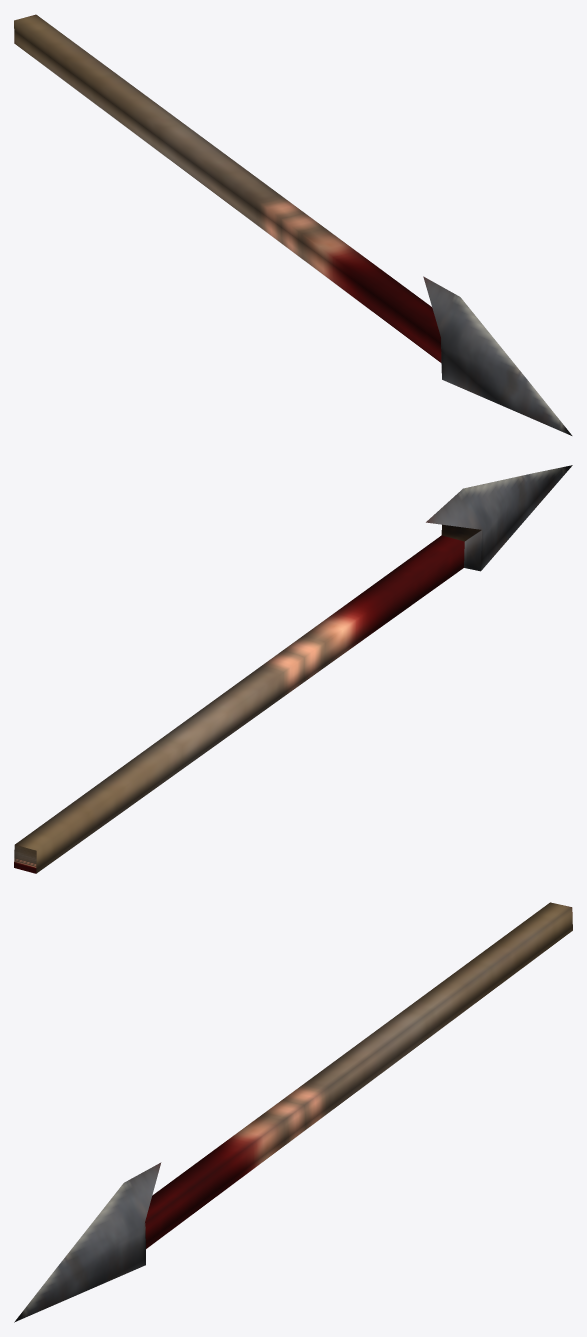
The model's file is spear.gltf.
3 views of the same model, one above another, from view 1: azimuth 30°, elevation 25°; view 2: azimuth 150°, elevation 25°; view 3: azimuth 330°, elevation 25° (orthographic).
Parts seen in each view (by area): view 1: Box03; view 2: Box03; view 3: Box03.
Boxes of the visible parts, bbox=[...] form: Box03: bbox=[14, 14, 572, 435]; Box03: bbox=[14, 465, 572, 873]; Box03: bbox=[14, 902, 572, 1322].
Size of the model in its own units: 3.84 by 7.04 by 89.16.
Materials: 1 (1 with a texture image).
